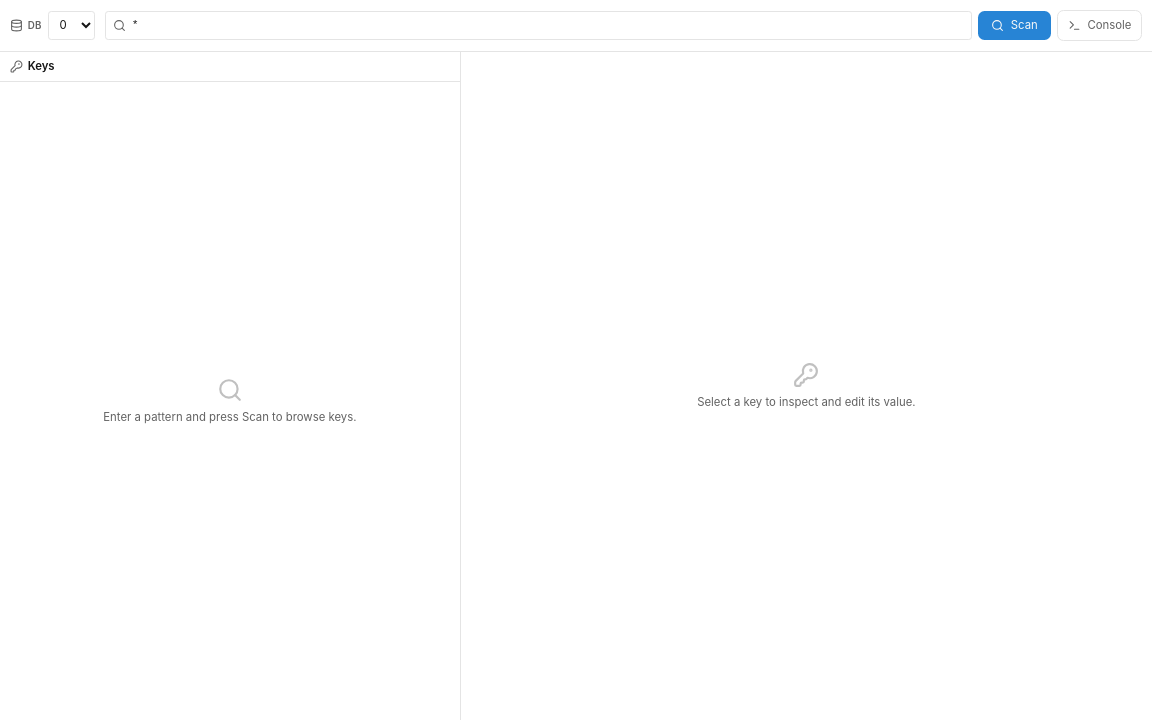
Test: RedisKeyBrowser › runs a raw command via command(db, argv) and prints the reply
Click the button "Console" at (1100, 25), box [1057,10,1142,41]
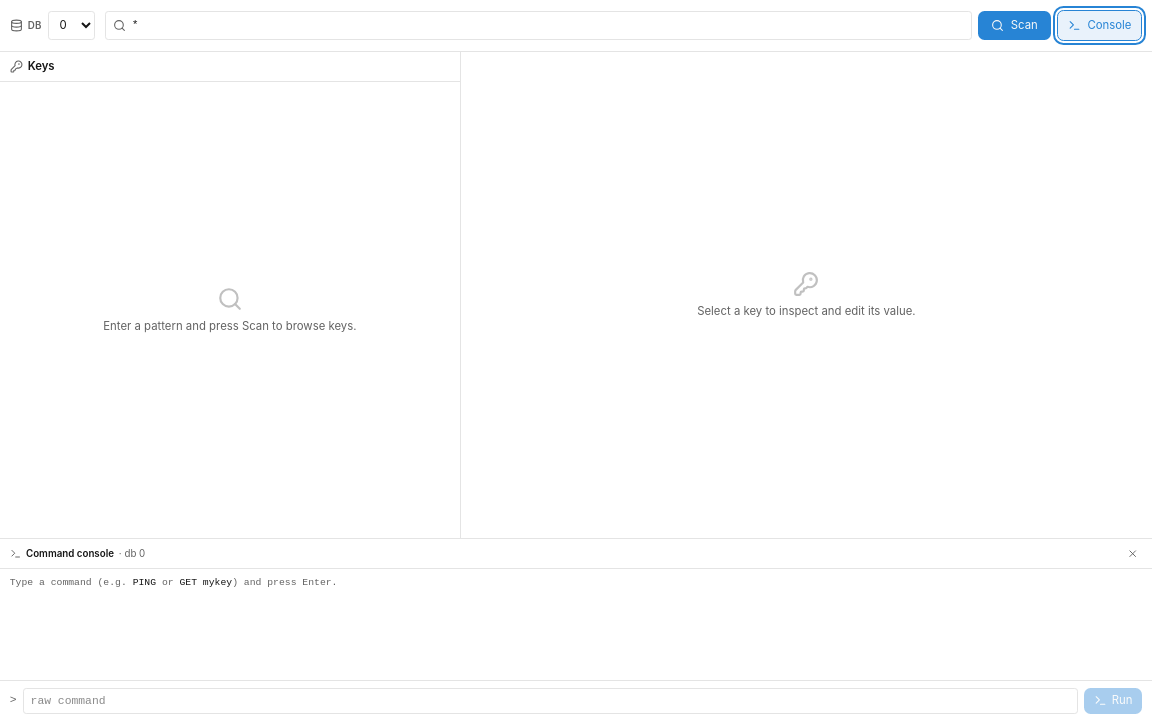
Type "SET k \"hello world\"" into the field with placeholder "raw command" at (550, 700), box [23,688,1078,714]
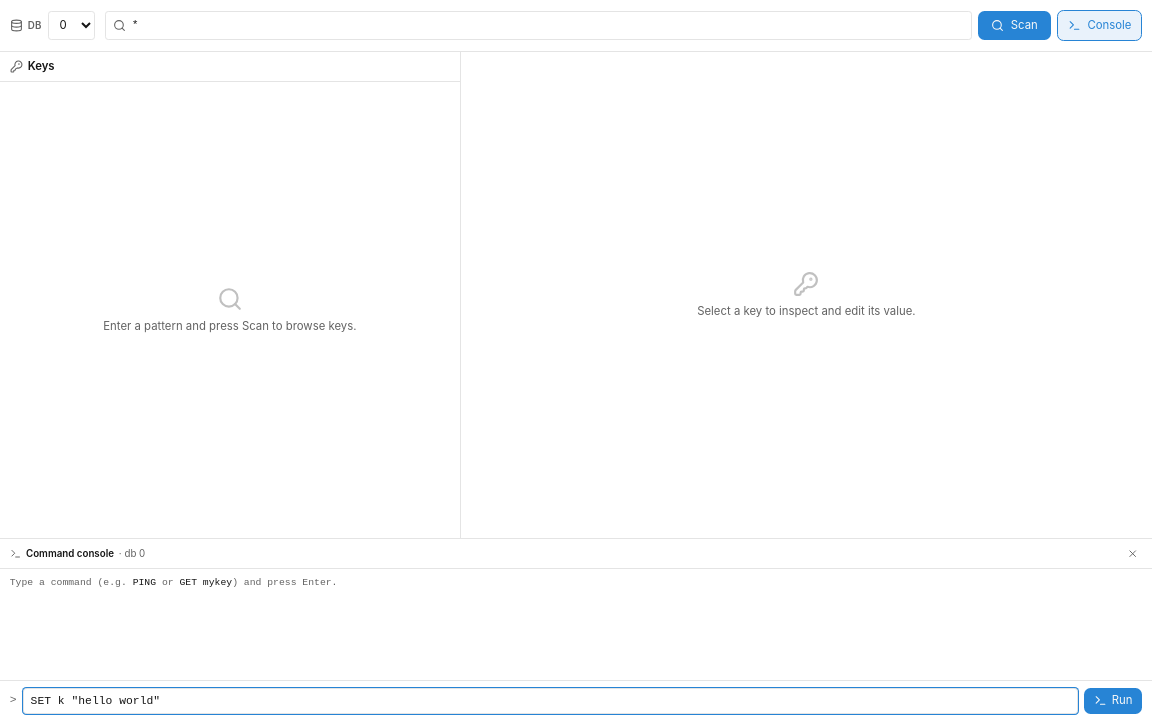
Click the button "Run" at (1113, 700), box [1084,688,1142,714]
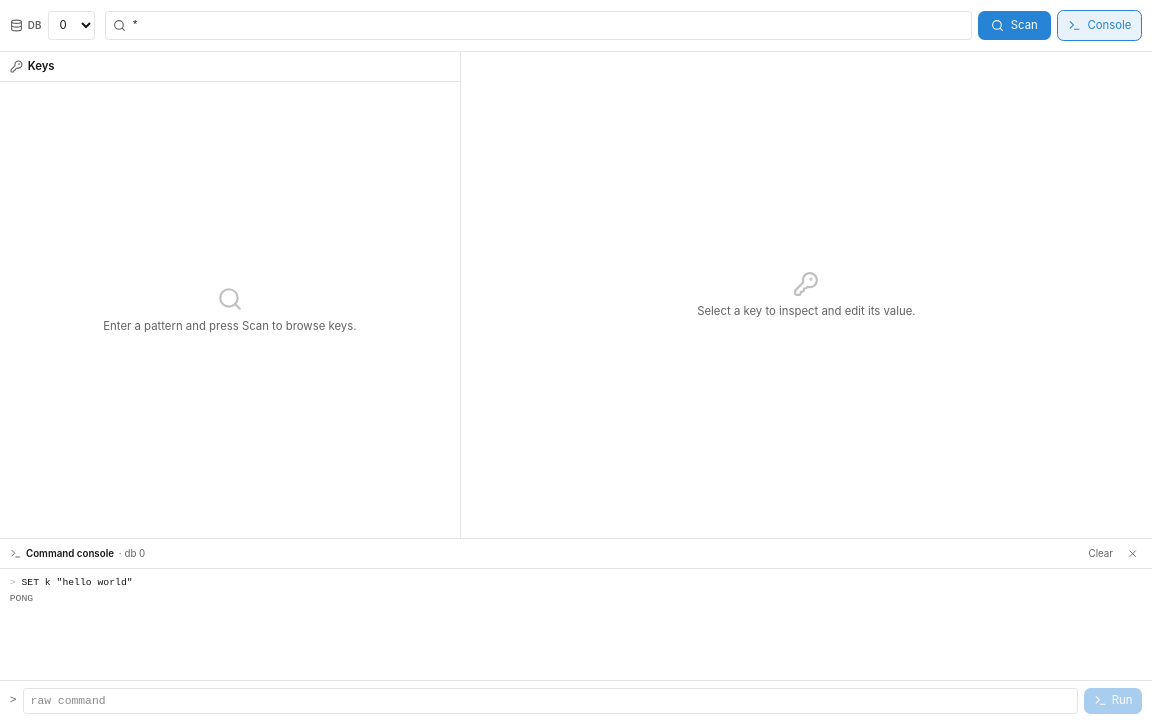
Now the text "PONG" is shown, box [10,593,33,604]
